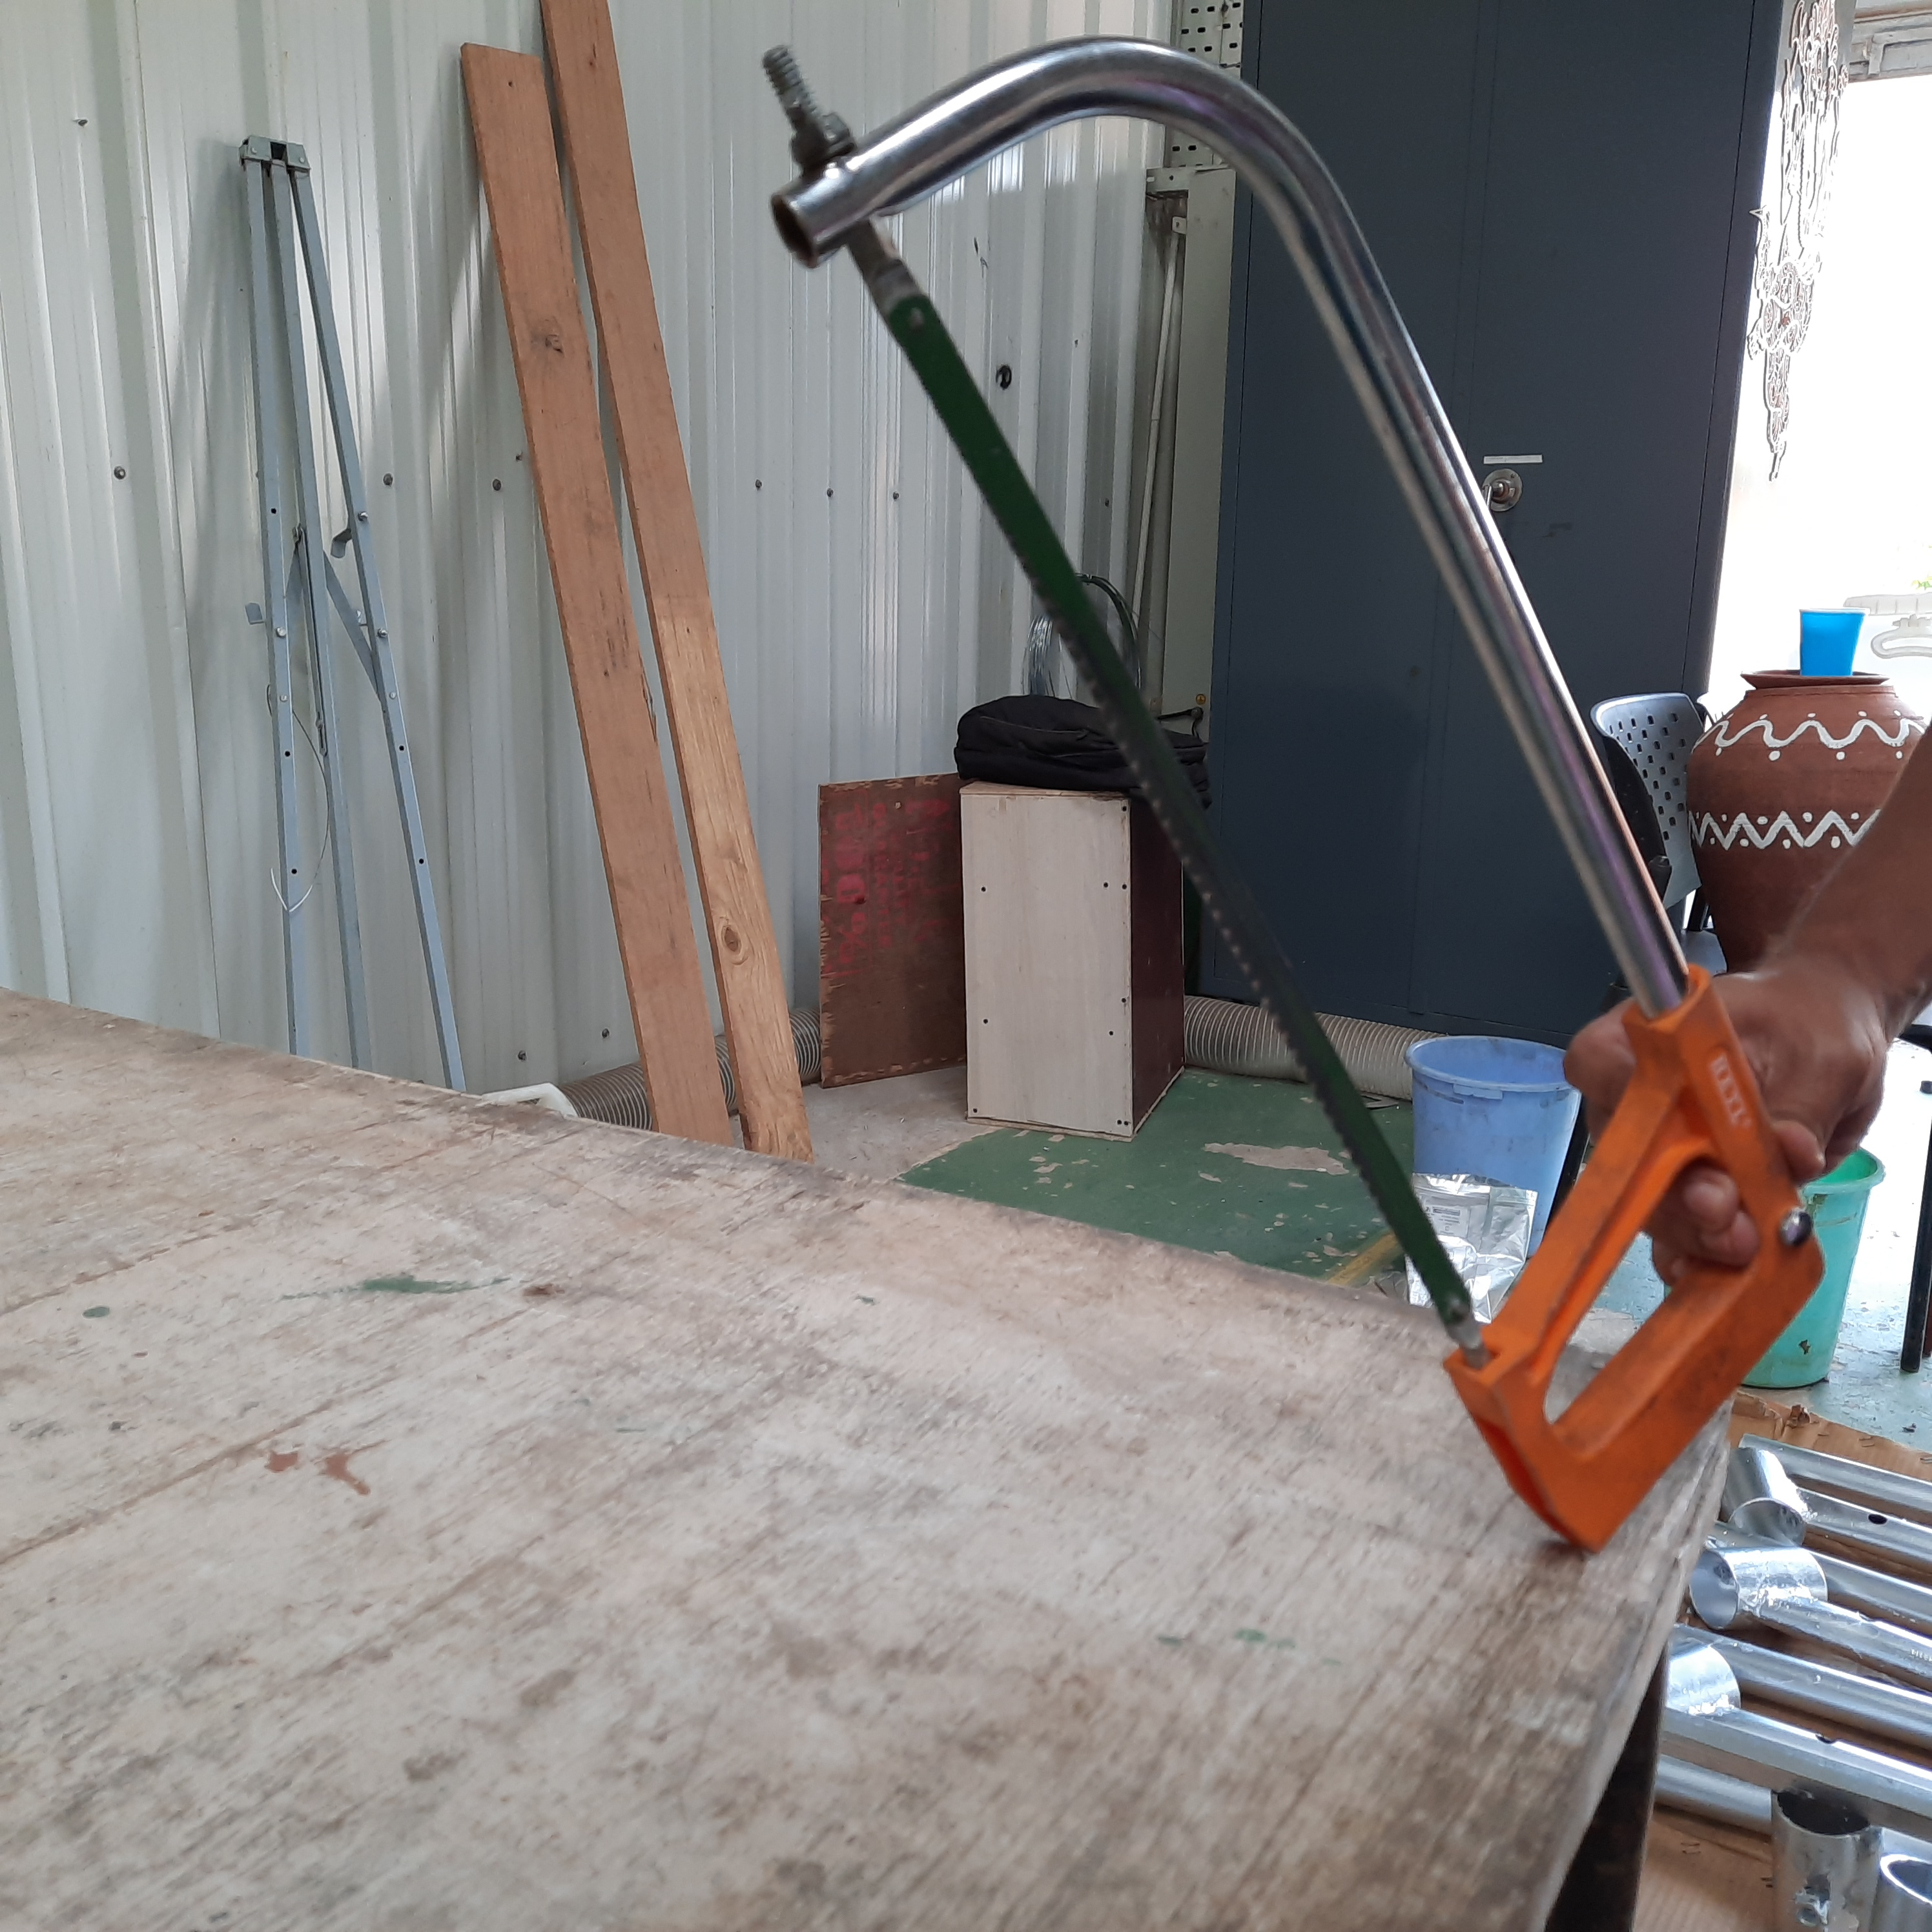Hexaframe: (743, 21, 1833, 1591)
